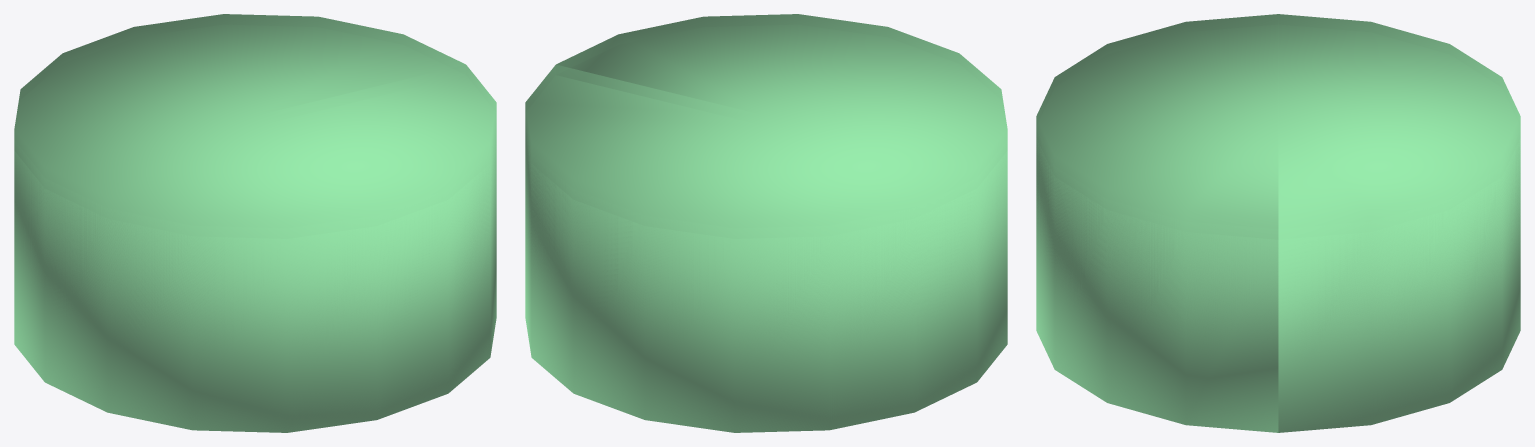
File: guti_pebble_variations_col.glb
3 renders of one model, left to right at view 1: azimuth 30°, elevation 25°; view 2: azimuth 150°, elevation 25°; view 3: azimuth 270°, elevation 25°, orthographic.
Parts seen in each view (by area): view 1: dark_variation_3_col_0, dark_variation_1_col_0, cream_variation_3_col_0, dark_variation_2_col_0, cream_variation_1_col_0, cream_variation_2_col_0; view 2: dark_variation_3_col_0, dark_variation_1_col_0, cream_variation_3_col_0, dark_variation_2_col_0, cream_variation_1_col_0, cream_variation_2_col_0; view 3: dark_variation_3_col_0, dark_variation_1_col_0, dark_variation_2_col_0, cream_variation_3_col_0, cream_variation_1_col_0, cream_variation_2_col_0.
Part boxes in pixels (x1=…): dark_variation_3_col_0: x1=14, y1=14, x2=496, y2=432; dark_variation_1_col_0: x1=14, y1=142, x2=496, y2=432; cream_variation_3_col_0: x1=14, y1=14, x2=496, y2=393; dark_variation_2_col_0: x1=14, y1=115, x2=496, y2=432; cream_variation_1_col_0: x1=14, y1=153, x2=495, y2=428; cream_variation_2_col_0: x1=15, y1=122, x2=496, y2=423; dark_variation_3_col_0: x1=525, y1=14, x2=1007, y2=432; dark_variation_1_col_0: x1=525, y1=140, x2=1007, y2=432; cream_variation_3_col_0: x1=525, y1=14, x2=1007, y2=426; dark_variation_2_col_0: x1=525, y1=114, x2=1007, y2=432; cream_variation_1_col_0: x1=533, y1=152, x2=1007, y2=430; cream_variation_2_col_0: x1=526, y1=143, x2=1005, y2=430; dark_variation_3_col_0: x1=1036, y1=14, x2=1520, y2=432; dark_variation_1_col_0: x1=1036, y1=138, x2=1520, y2=432; dark_variation_2_col_0: x1=1036, y1=128, x2=1520, y2=432; cream_variation_3_col_0: x1=1036, y1=14, x2=1520, y2=391; cream_variation_1_col_0: x1=1037, y1=168, x2=1519, y2=426; cream_variation_2_col_0: x1=1041, y1=143, x2=1514, y2=403.
Bounding box in the file's own units: 0.025 × 0.0122 × 0.025.
